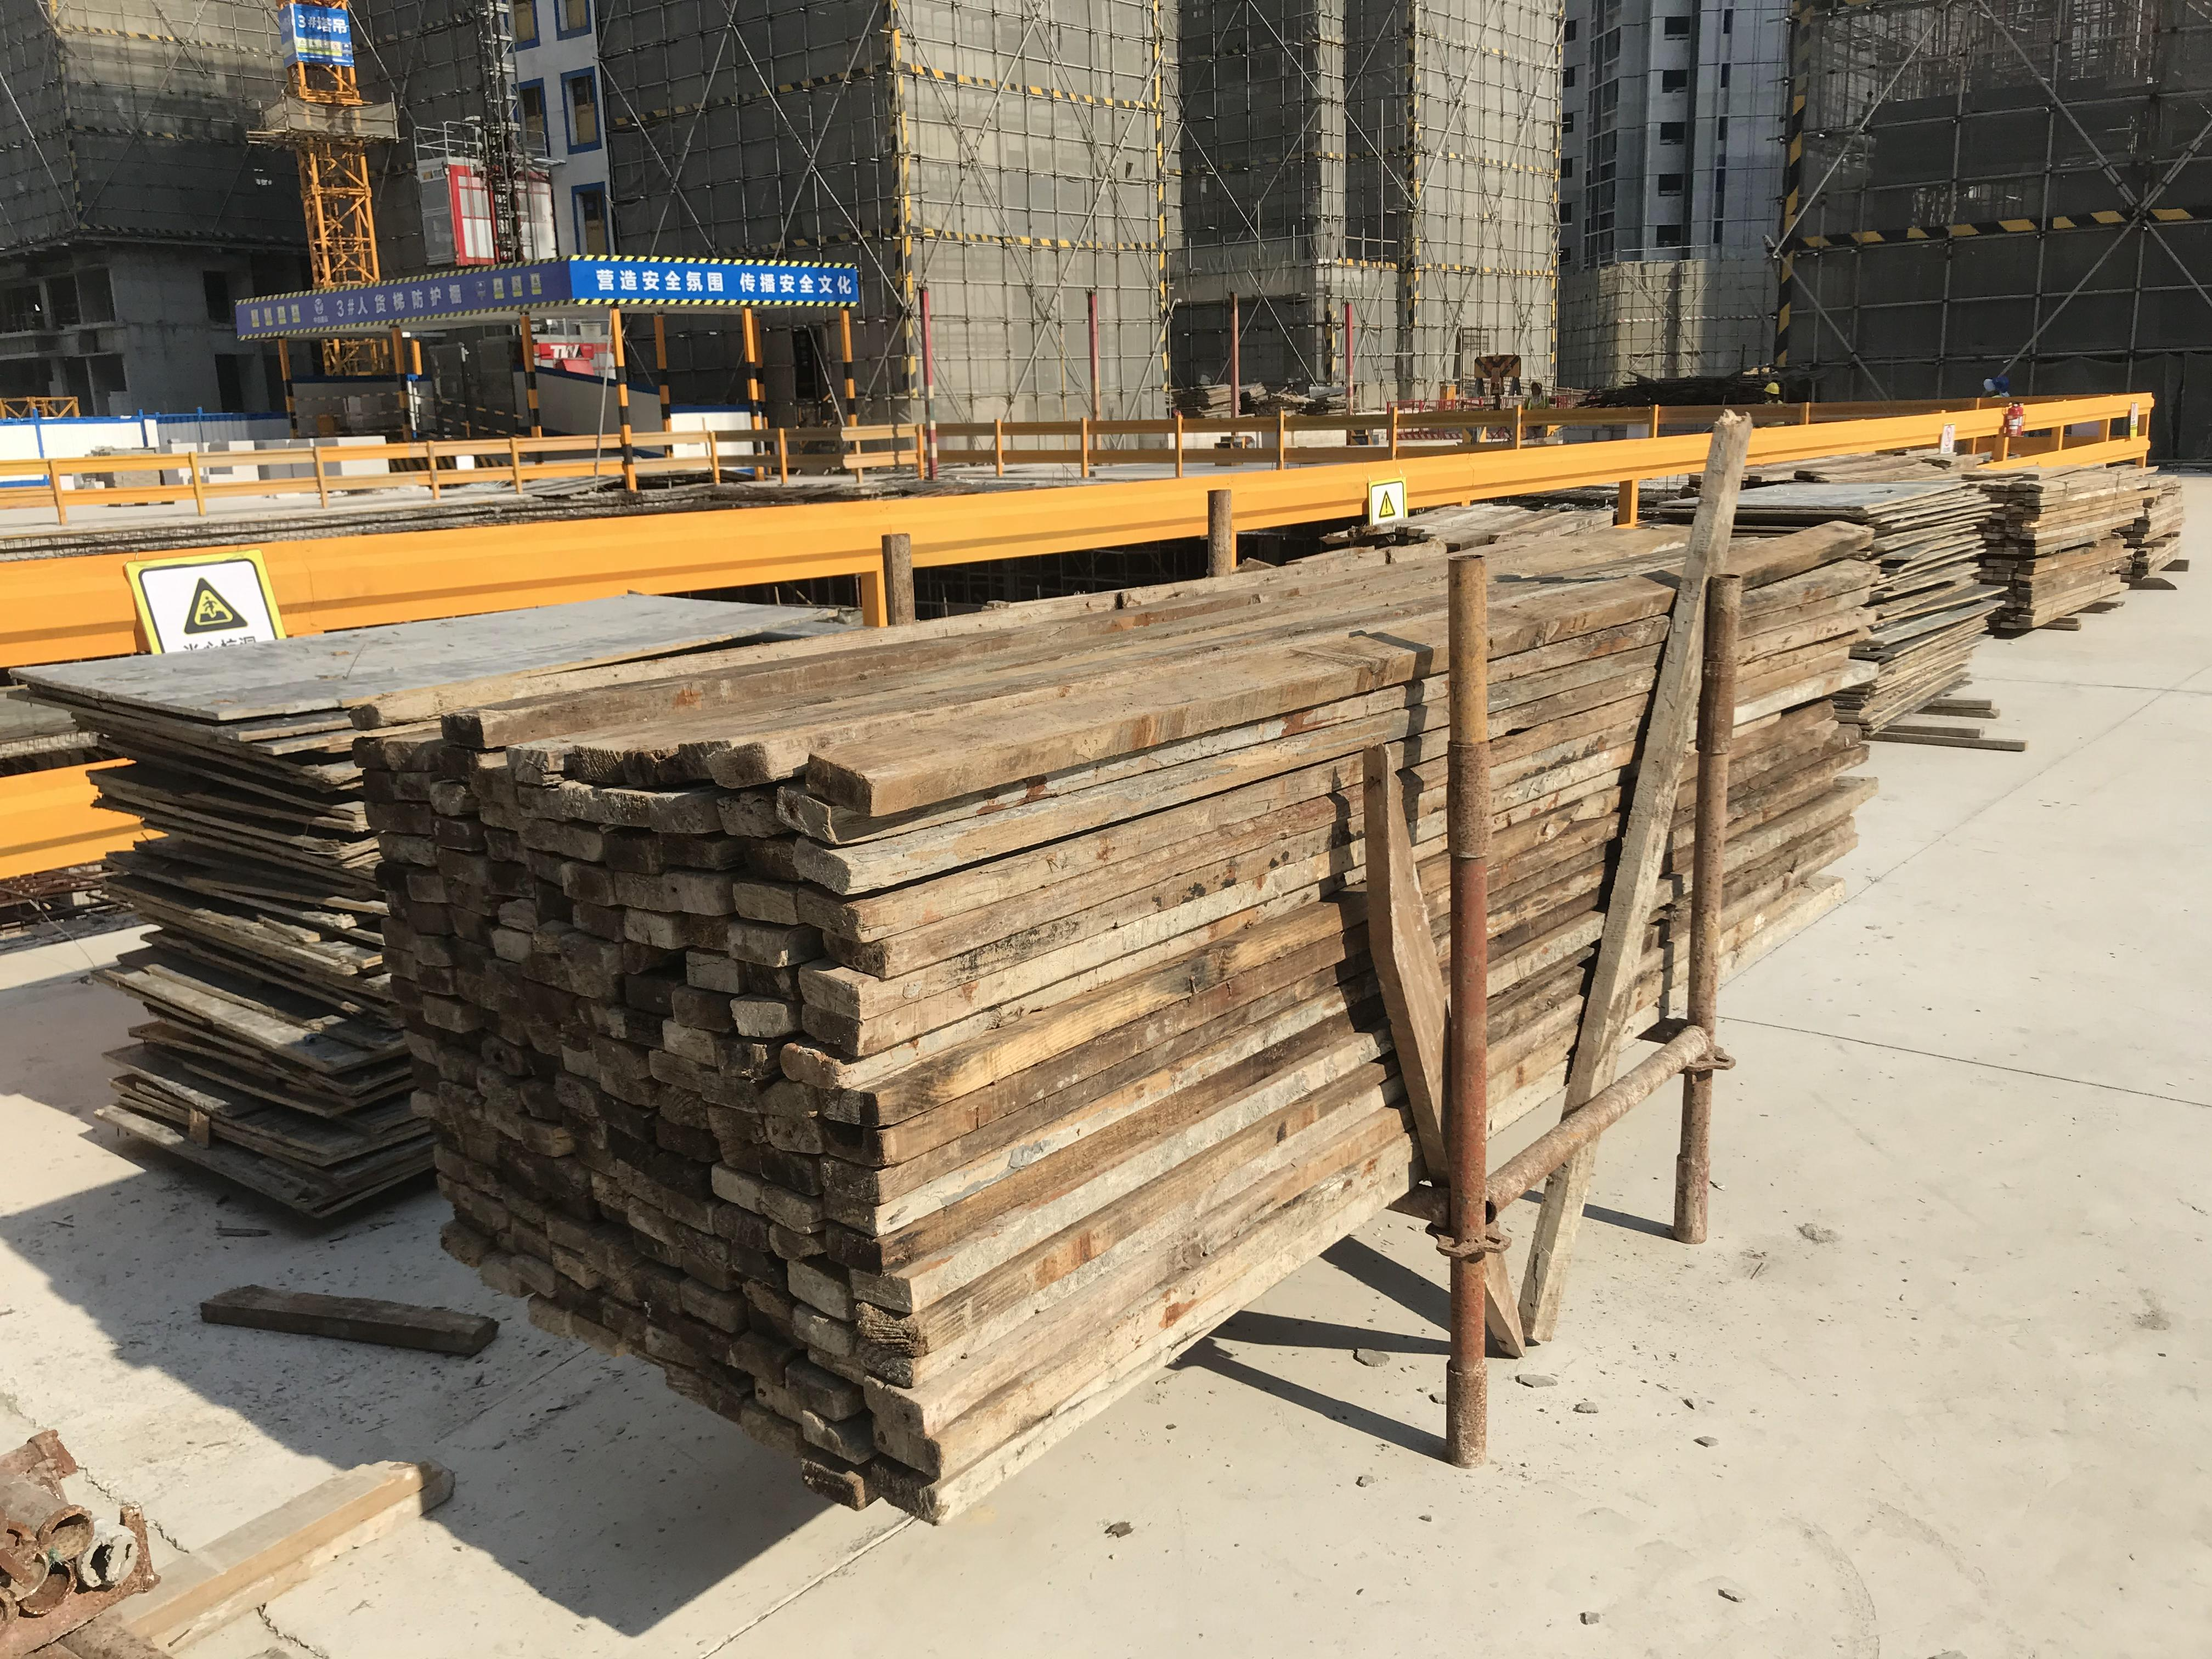board: (24, 590, 407, 1227), (1740, 477, 1992, 731)
helmet: (1764, 382, 1779, 394)
person: (1523, 381, 1550, 409), (1762, 382, 1779, 402)
slogan: (576, 262, 854, 301)
wood: (422, 524, 1877, 1539), (1979, 466, 2184, 632)
